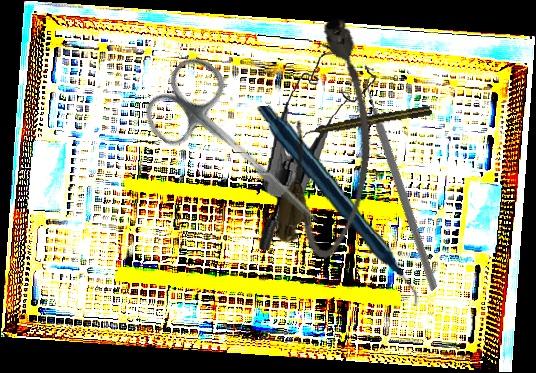Cannula: (271, 13, 393, 263)
Chopper: (289, 67, 521, 292)
Handpiece: (255, 98, 421, 314), (301, 104, 433, 139)
Iris Scissors: (134, 48, 350, 253)
Speculum: (255, 39, 380, 259)
